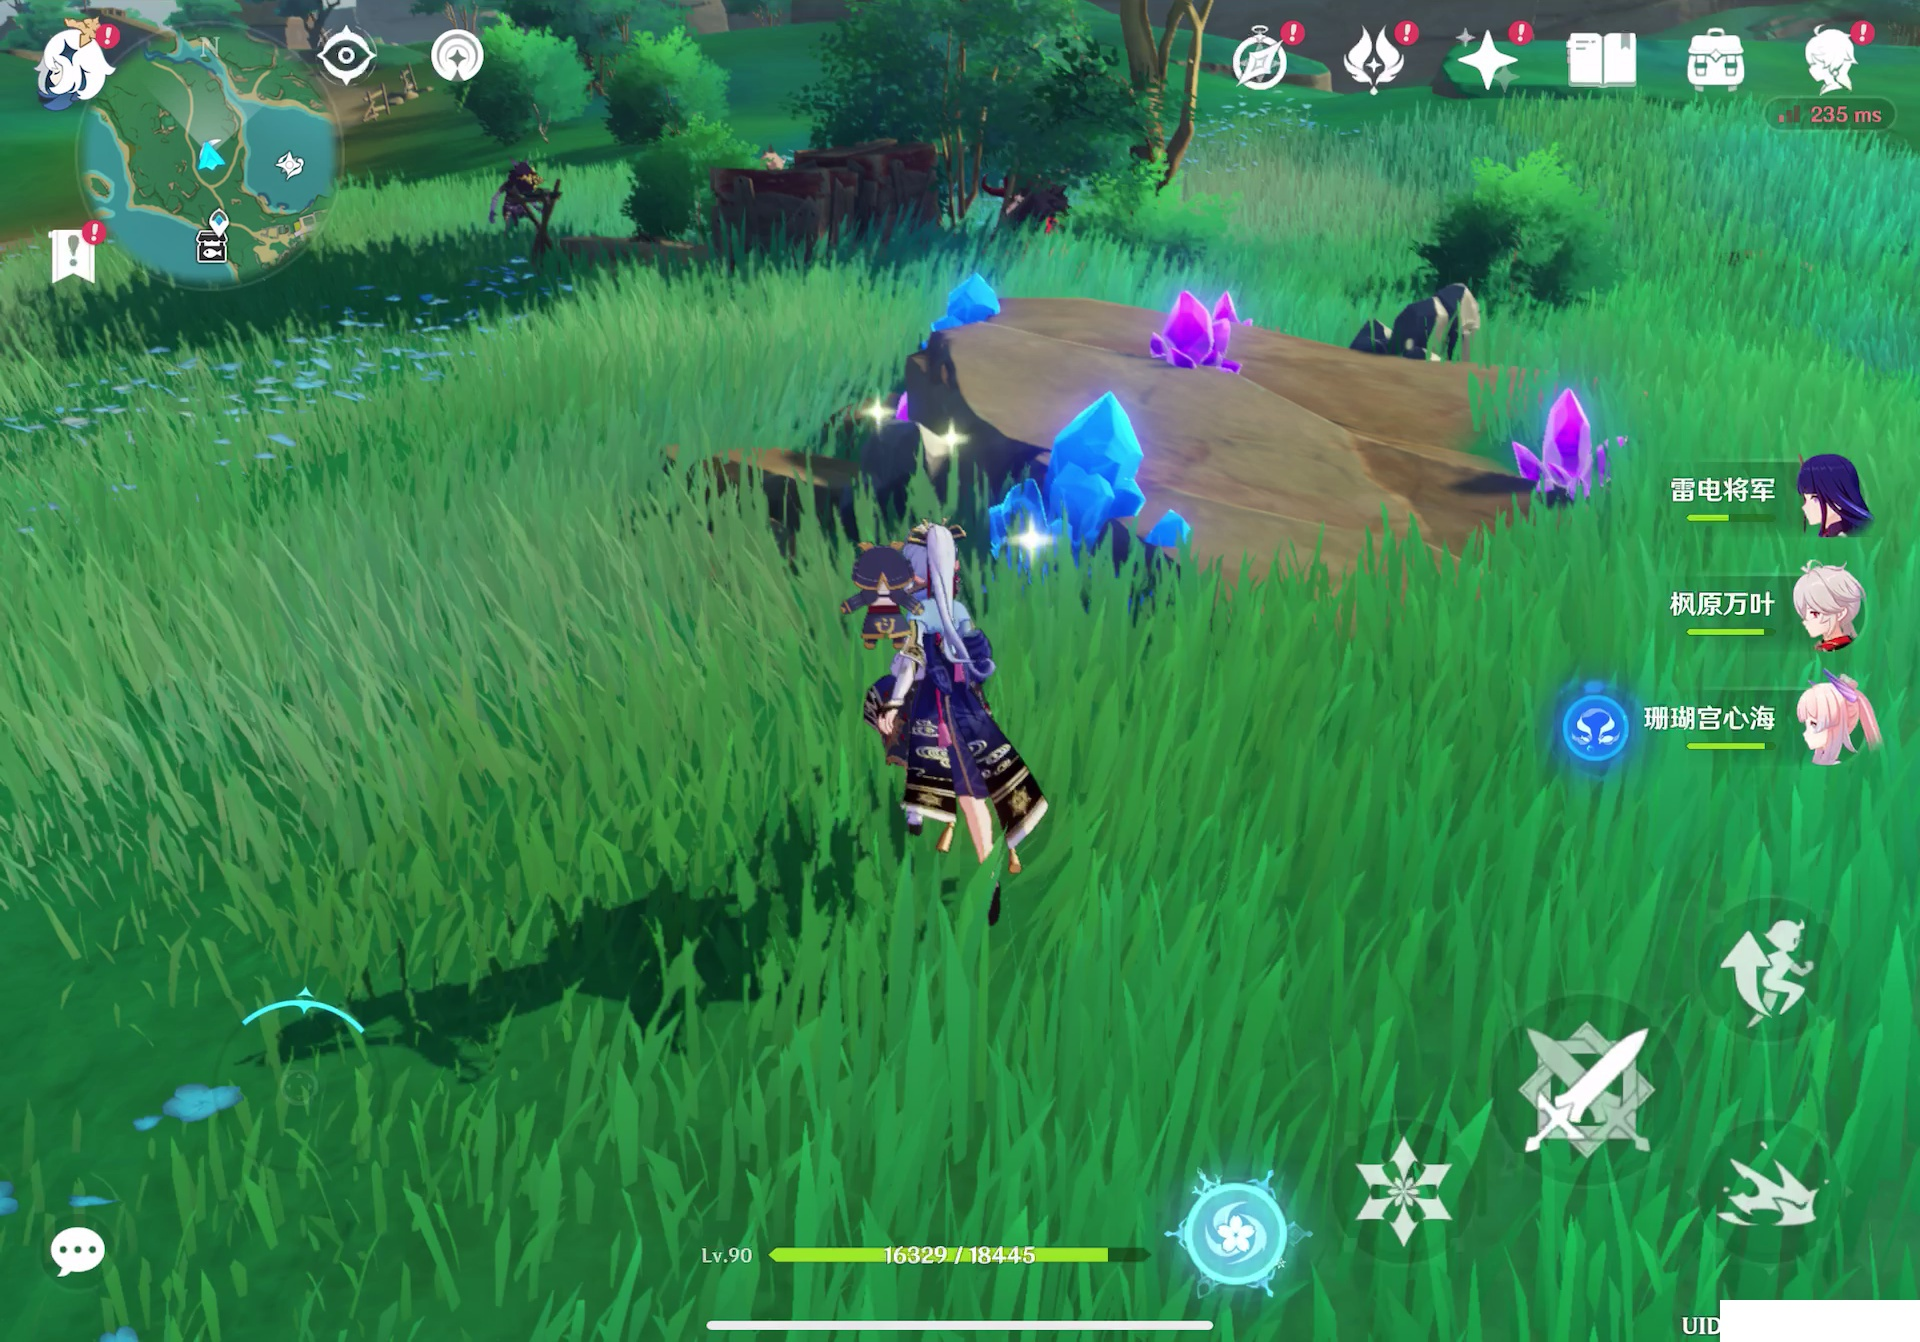丘丘人: (495, 155, 541, 236)
白铁矿石: (824, 407, 960, 503), (1347, 277, 1491, 360)
神里绫龟: (864, 524, 1050, 936)
紫矿石: (1501, 379, 1633, 532), (1145, 277, 1259, 382)
蓝矿石: (998, 387, 1185, 582), (919, 273, 1018, 346)
